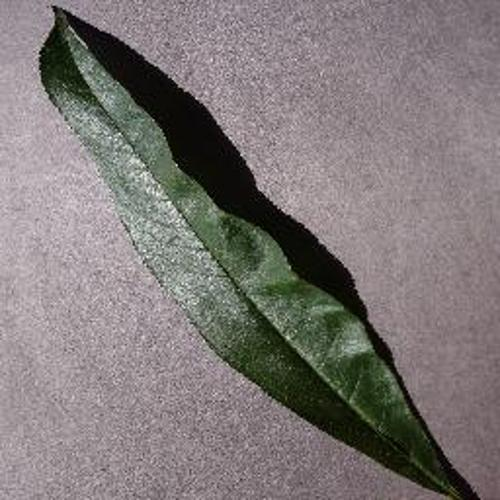Peach: (39, 6, 461, 500)
